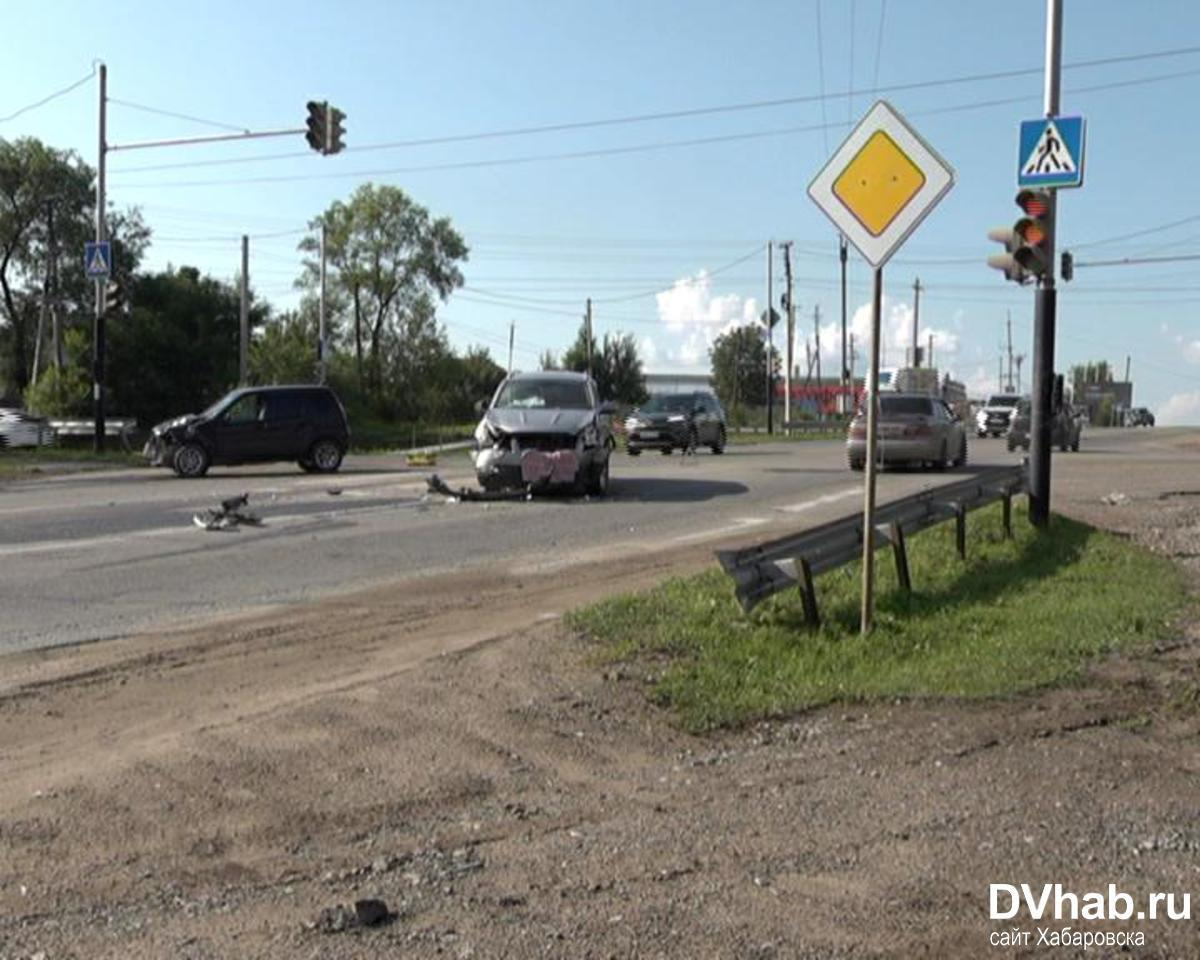off traffic light: (985, 231, 1021, 284), (330, 106, 348, 154)
road_sign: (806, 97, 957, 270), (1018, 116, 1085, 188), (85, 242, 110, 276)
traffic light: (1013, 189, 1049, 275), (303, 99, 327, 149)
